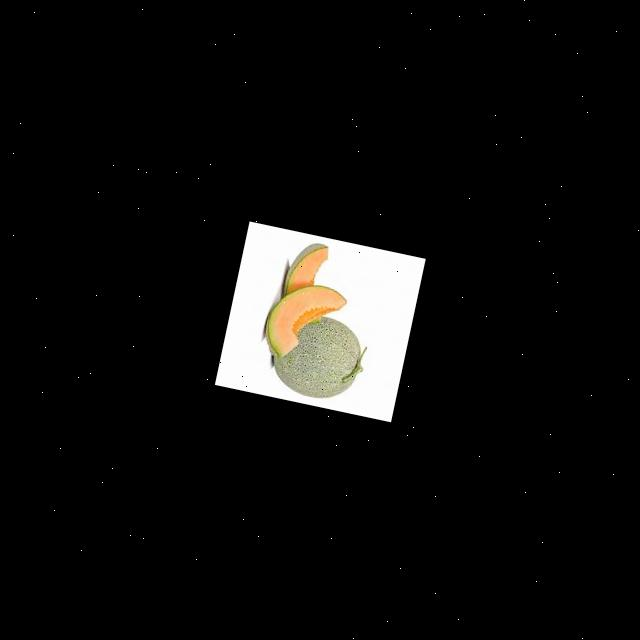Hami Melon: (266, 306, 372, 405), (258, 274, 348, 366)
